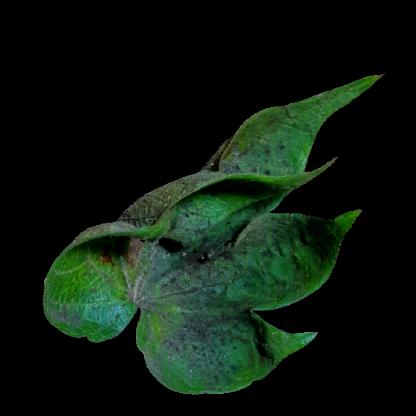curl_stage1: (73, 256, 129, 303)
curl_stage2: (161, 184, 235, 206)
sooty: (177, 242, 268, 372), (269, 214, 319, 290)
